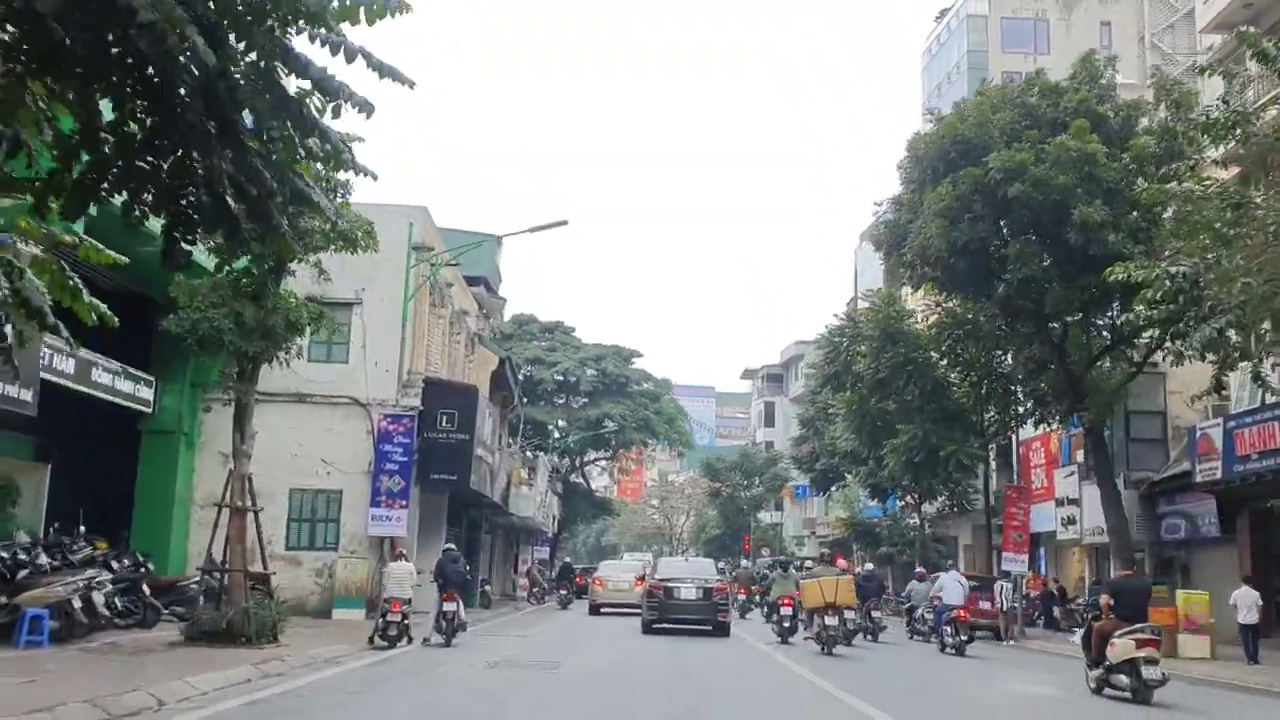person: (1137, 660, 1164, 682)
